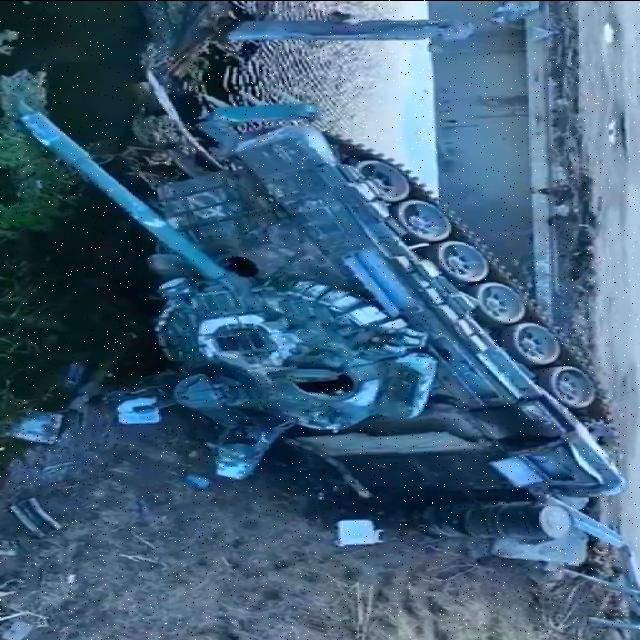TANK: (104, 129, 636, 545)
